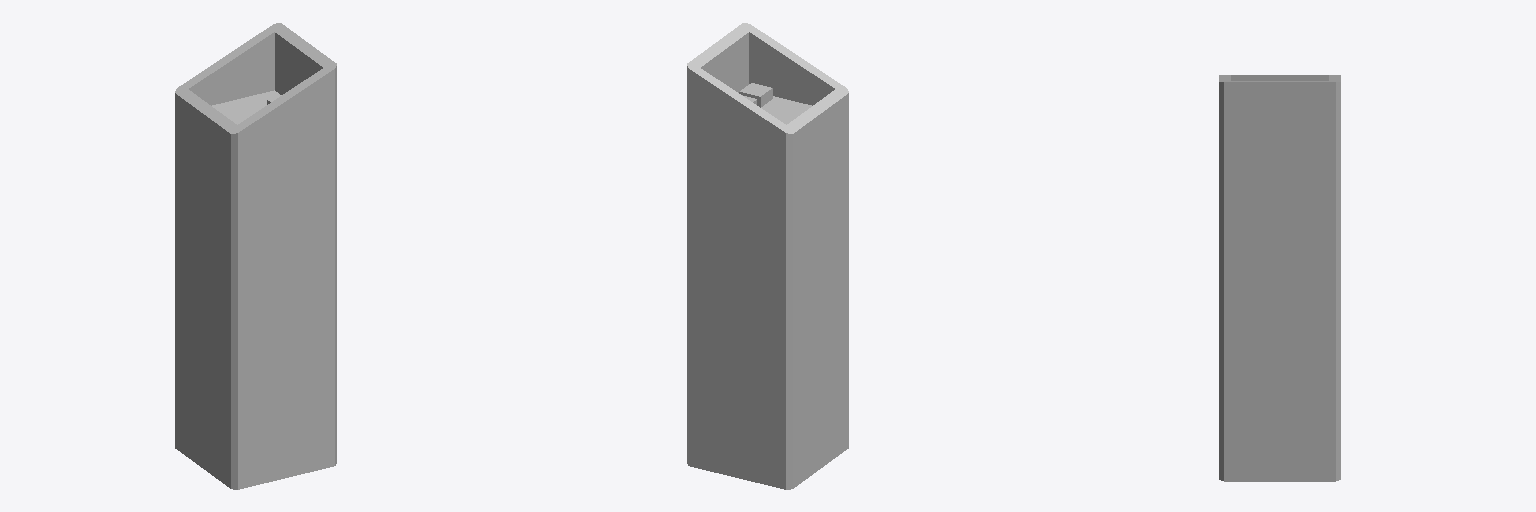
Rendered from low-detail-building-e.obj.
3 renders of one model, left to right at view 1: azimuth 30°, elevation 25°; view 2: azimuth 150°, elevation 25°; view 3: azimuth 270°, elevation 25°, orthographic.
Parts seen in each view (by area): view 1: low-detail-building-e; view 2: low-detail-building-e; view 3: low-detail-building-e.
Boxes of the visible parts, <box> form: low-detail-building-e: <box>175,23,336,489</box>; low-detail-building-e: <box>687,23,848,489</box>; low-detail-building-e: <box>1219,75,1340,481</box>.
Size of the model in its own units: 0.5 by 1.8 by 0.5.